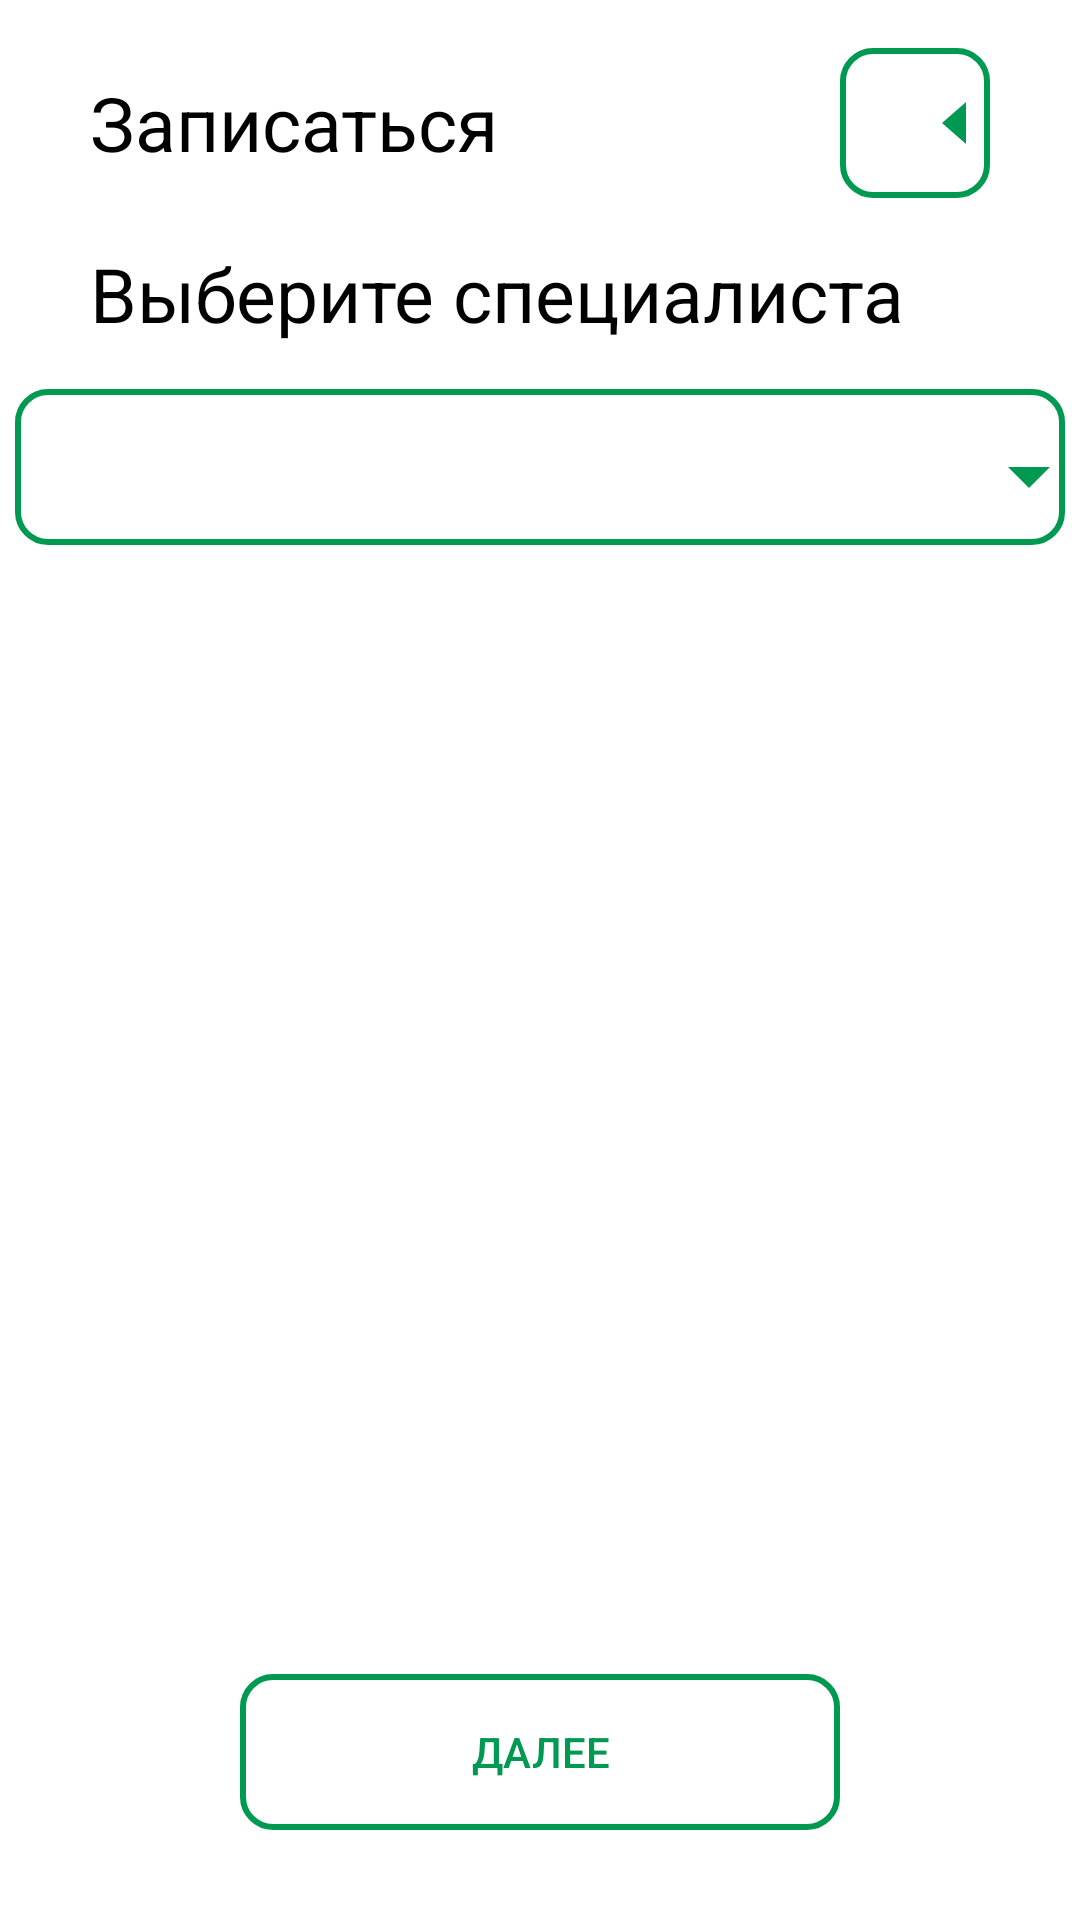

Screen size 1080px×1920px. Icon name, then its center in pixels as (x=x, y=y):
obvodka: (x=915, y=123)
